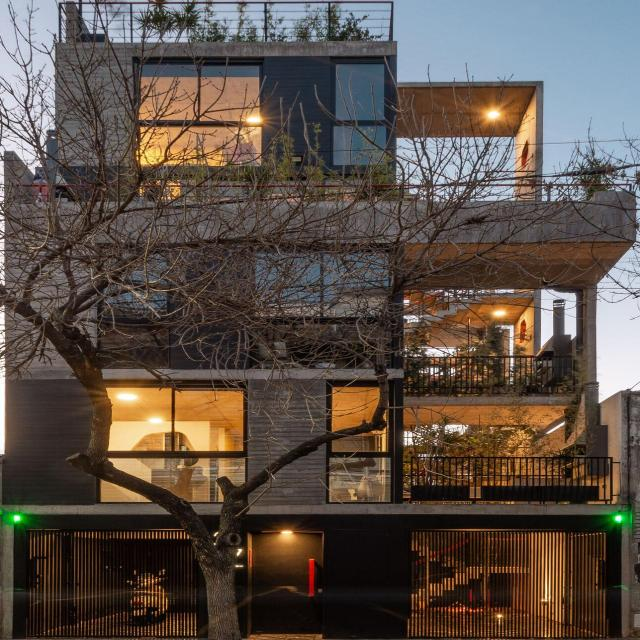Railing: (54, 2, 388, 40), (407, 458, 607, 504), (403, 357, 572, 396)
door: (247, 532, 320, 635)
wall: (0, 2, 634, 640)
windows: (96, 385, 240, 503), (250, 252, 383, 364), (133, 61, 256, 165), (93, 248, 165, 366), (325, 382, 387, 503), (326, 61, 382, 171)
